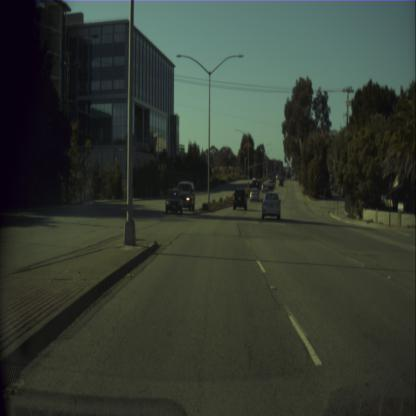Red: (292, 168, 294, 170)
